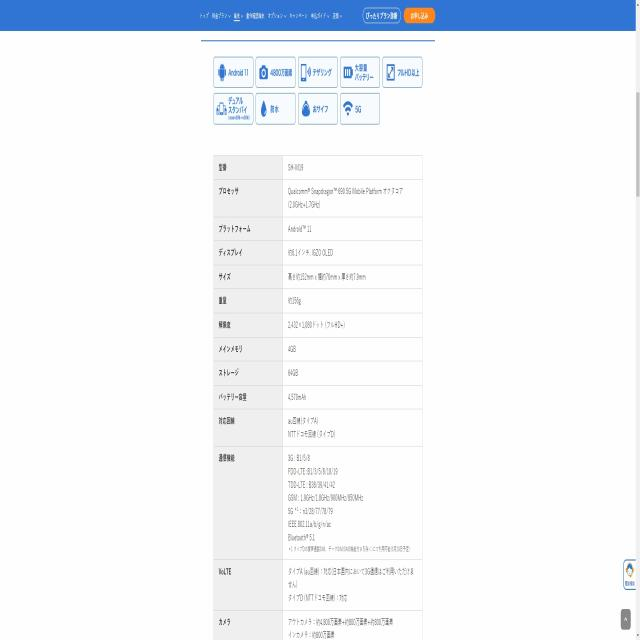tab-bar: (198, 4, 346, 25)
